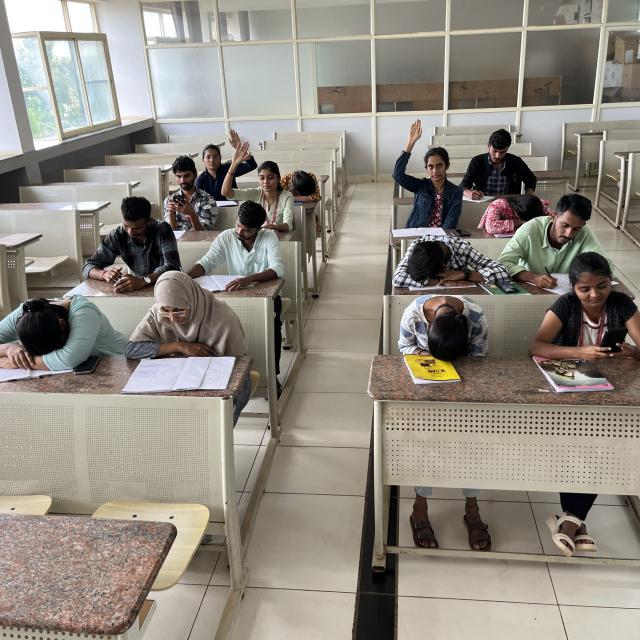Hand Rising: (392, 113, 464, 219), (229, 142, 290, 218), (195, 120, 252, 190)
Reading: (132, 266, 254, 383), (193, 204, 286, 290)
Sleeping: (0, 276, 114, 374), (394, 283, 504, 368), (393, 230, 503, 294), (480, 188, 559, 236), (278, 157, 329, 207)
Using Phone: (528, 252, 638, 364), (82, 196, 183, 294), (160, 150, 222, 228)
Writing: (503, 194, 613, 289), (456, 129, 540, 201)
